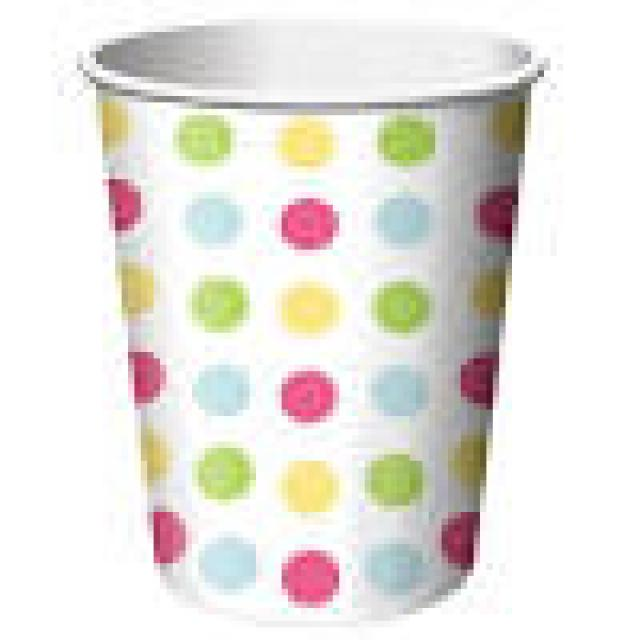PaperCardboard: (84, 11, 548, 626)
